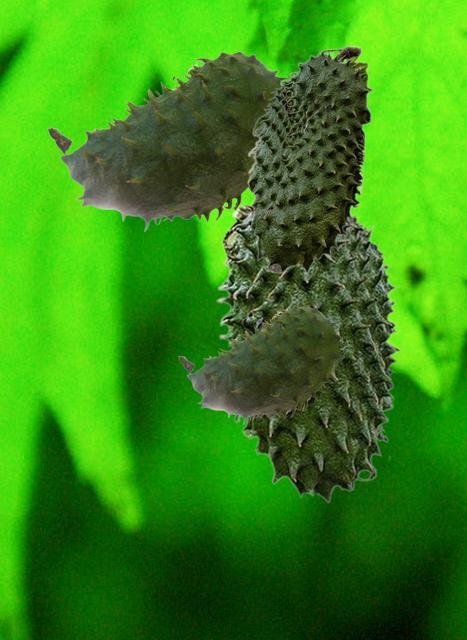guyabano: (216, 199, 401, 502), (47, 51, 288, 231), (246, 45, 372, 273), (178, 305, 344, 424)
